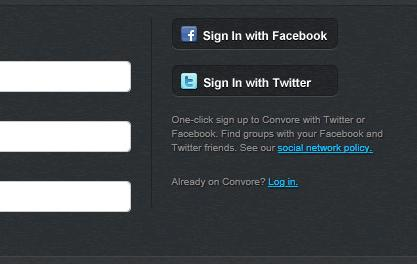button: (170, 65, 338, 97), (172, 17, 339, 49)
